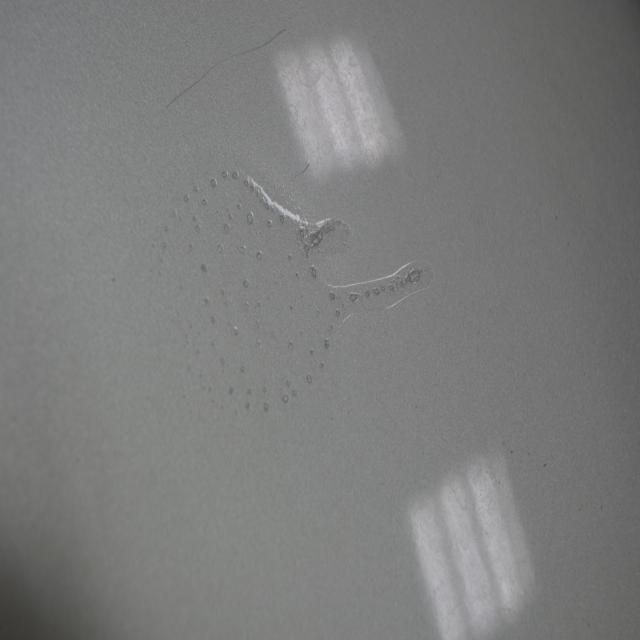runs: (148, 167, 435, 425)
scratch: (158, 14, 296, 118)
water marks: (431, 560, 471, 622), (271, 97, 302, 144), (292, 53, 325, 92)
